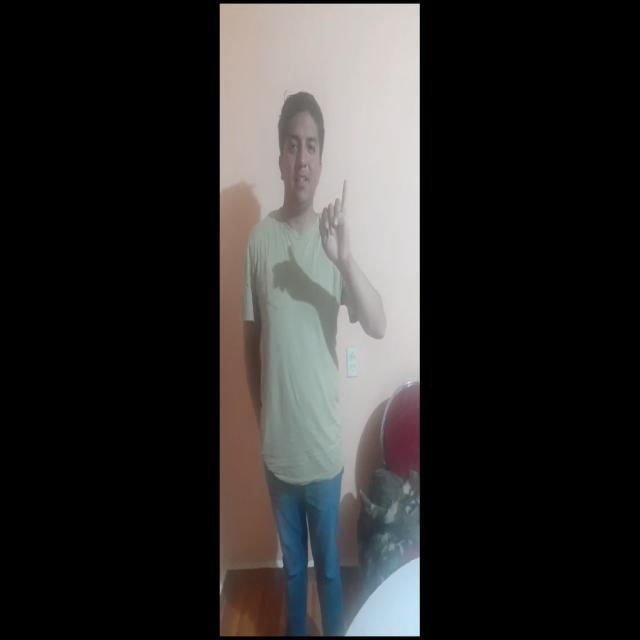I: (316, 178, 354, 280)
